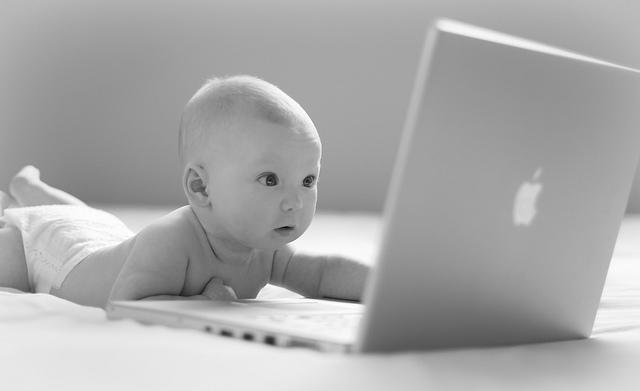apple: (512, 182, 542, 228)
